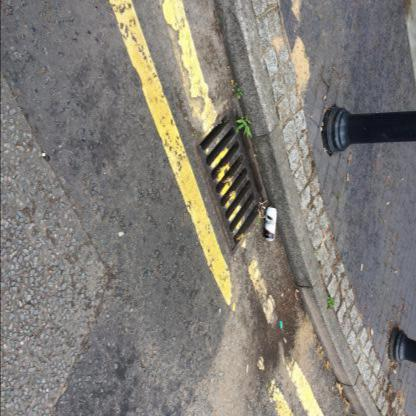Can: (264, 207, 278, 241)
Cigarette: (320, 239, 324, 246), (246, 365, 248, 373), (360, 264, 362, 271), (386, 202, 389, 206), (295, 289, 298, 293), (346, 177, 348, 181), (395, 271, 397, 273)
